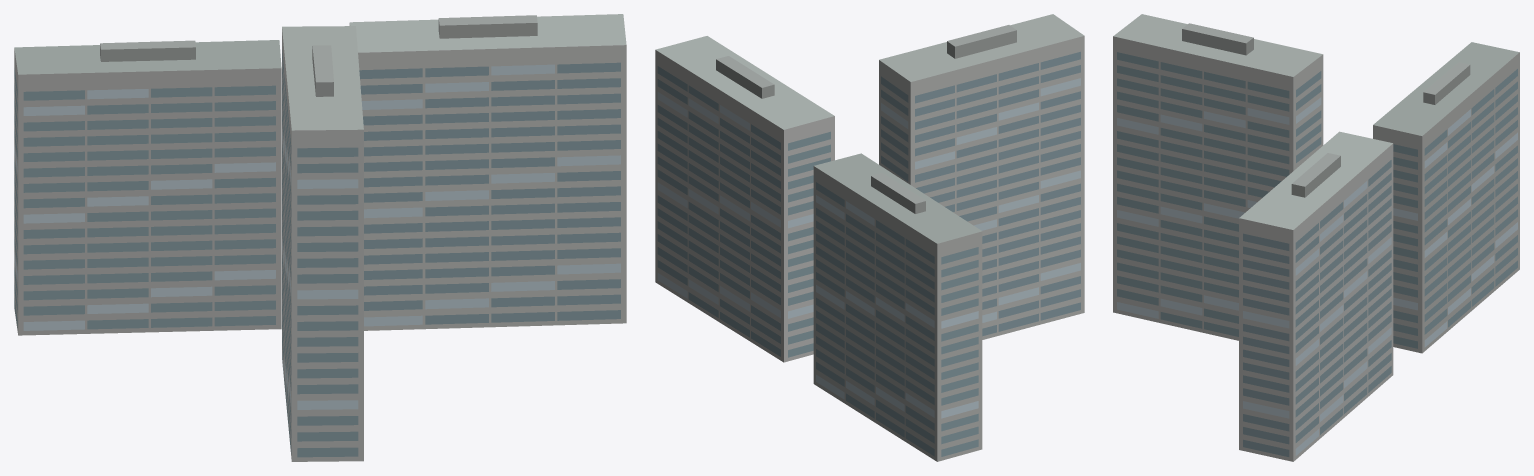
File: apt-a13920202.glb
3 renders of one model, left to right at view 1: azimuth 30°, elevation 25°; view 2: azimuth 150°, elevation 25°; view 3: azimuth 270°, elevation 25°, orthographic. The views are drawn at different scales.
Parts seen in each view (by area): view 1: apt-a13920202; view 2: apt-a13920202; view 3: apt-a13920202.
Part boxes in pixels (x1=…): apt-a13920202: x1=14, y1=14, x2=626, y2=461; apt-a13920202: x1=655, y1=14, x2=1084, y2=461; apt-a13920202: x1=1113, y1=14, x2=1519, y2=461.
Size of the model in its own units: 85.9 by 57 by 72.88.
